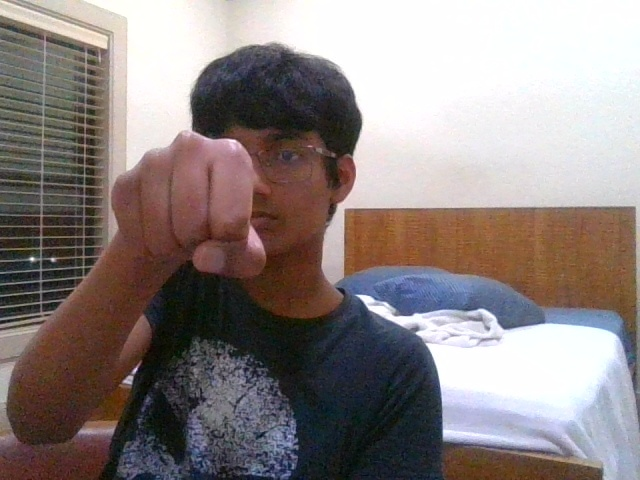yes: (111, 131, 267, 278)
